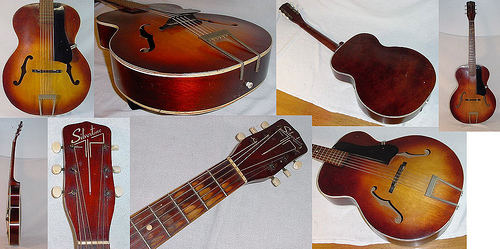guitar: (132, 120, 307, 249), (97, 1, 274, 116), (279, 2, 438, 121), (312, 130, 466, 246), (6, 2, 92, 115), (49, 119, 121, 249), (448, 1, 497, 124), (3, 119, 24, 249)
